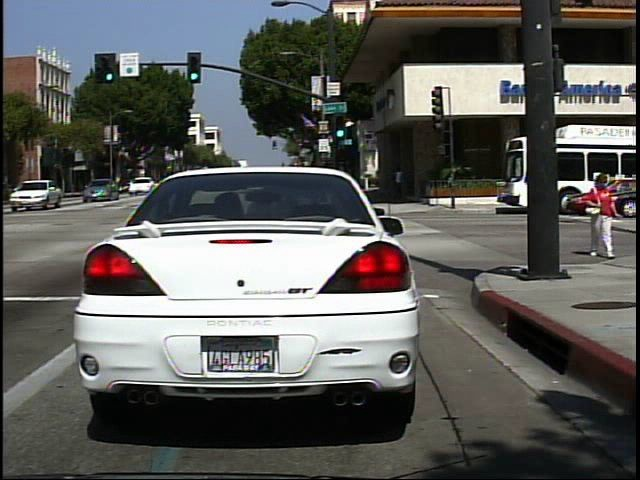person: (582, 170, 620, 261), (392, 166, 410, 203)
